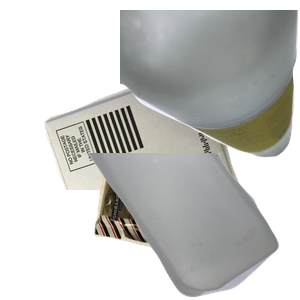glass: (120, 10, 300, 160)
paper: (42, 68, 275, 248)
plastic: (84, 153, 300, 300)
trash: (92, 158, 277, 300)
